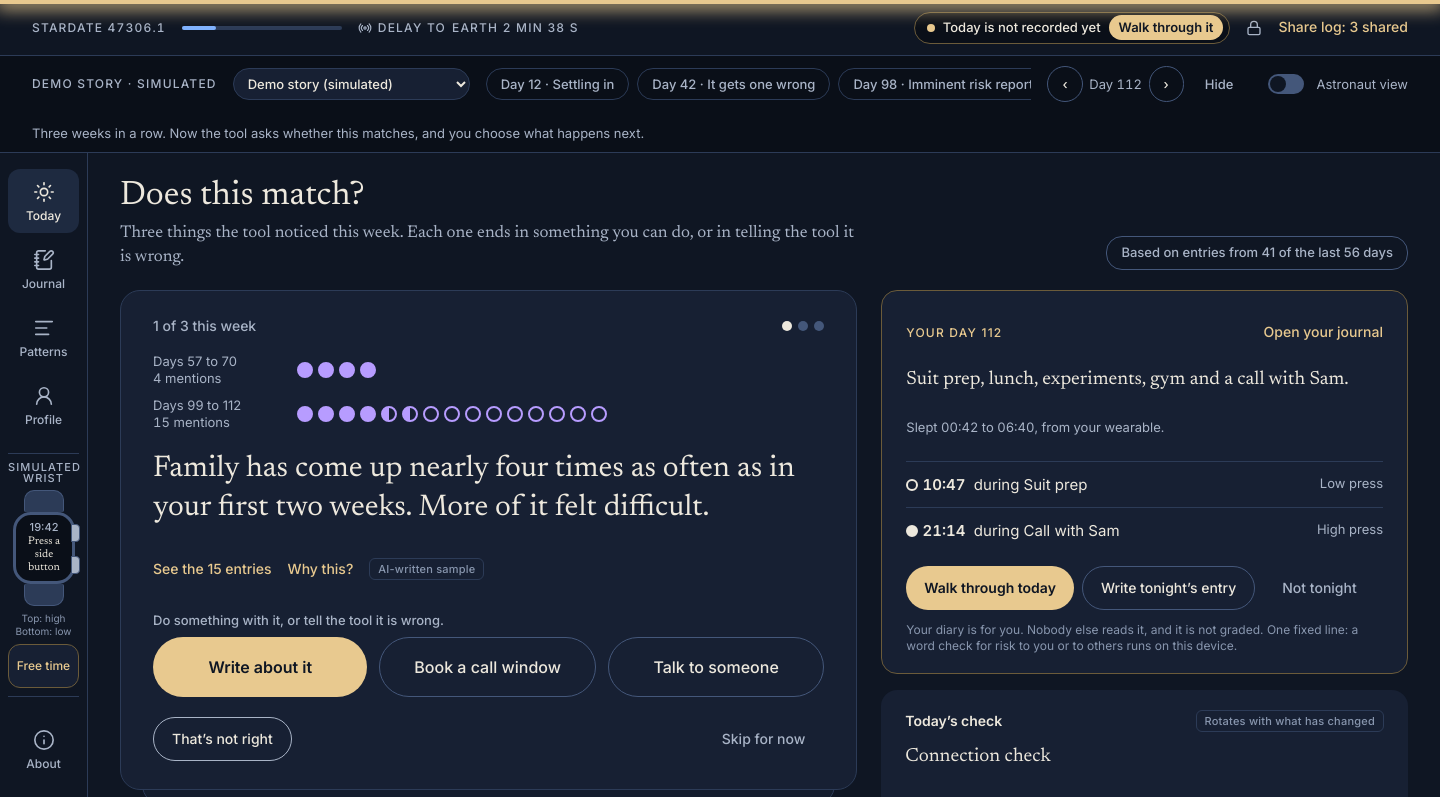
Test case: the story bar switches to a real journal replay and back
Select "Sunita Williams journal (real)" in the dropdown named "Simulation". click: (351, 84)
box: [233,68,470,100]
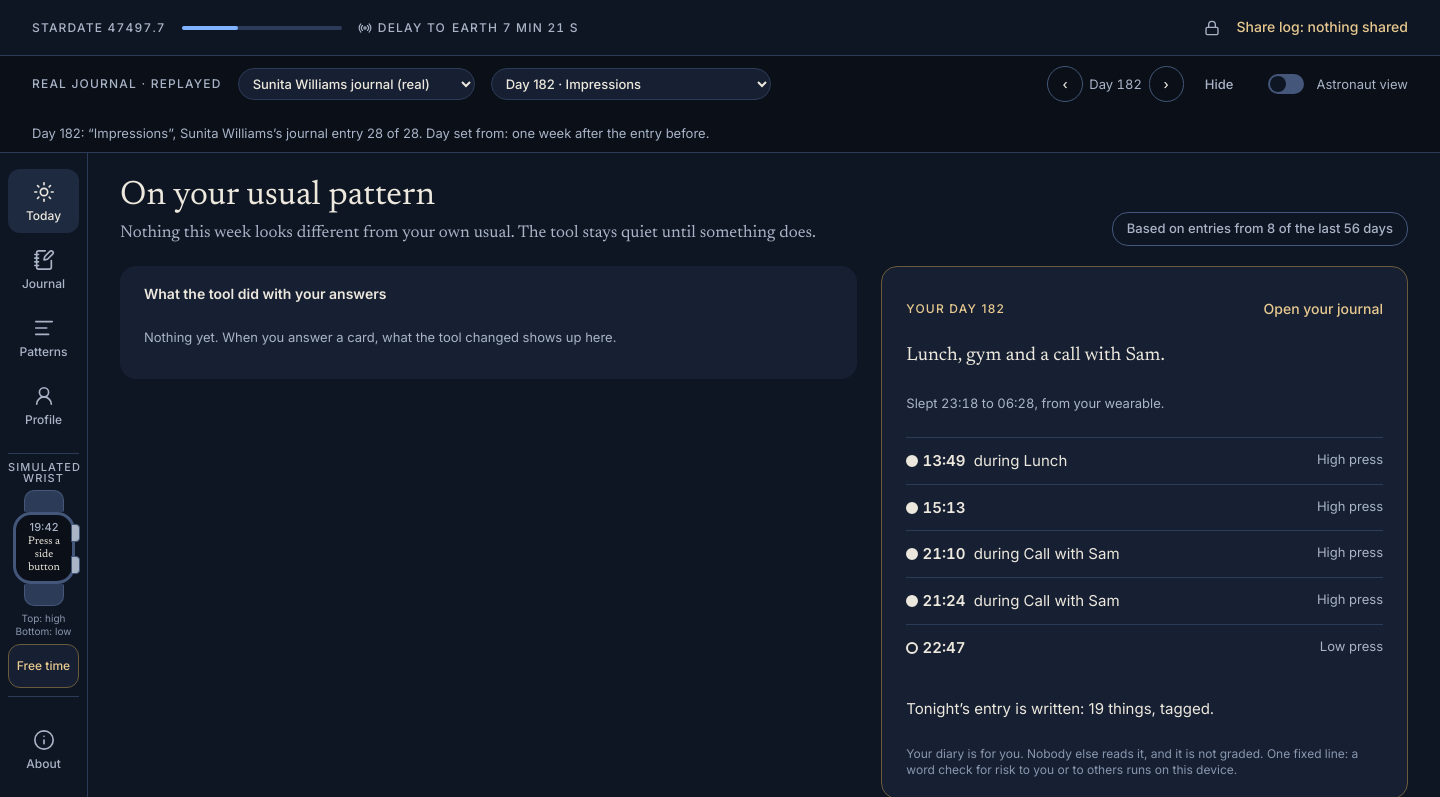
Check: the text "Real journal · replayed" is shown, box [32,78,222,90]
Check: the dropdown named "Jump to a journal entry" is shown, box [491,68,771,100]
Select "Demo story (simulated)" in the dropdown named "Simulation". click: (356, 84)
box: [238,68,475,100]
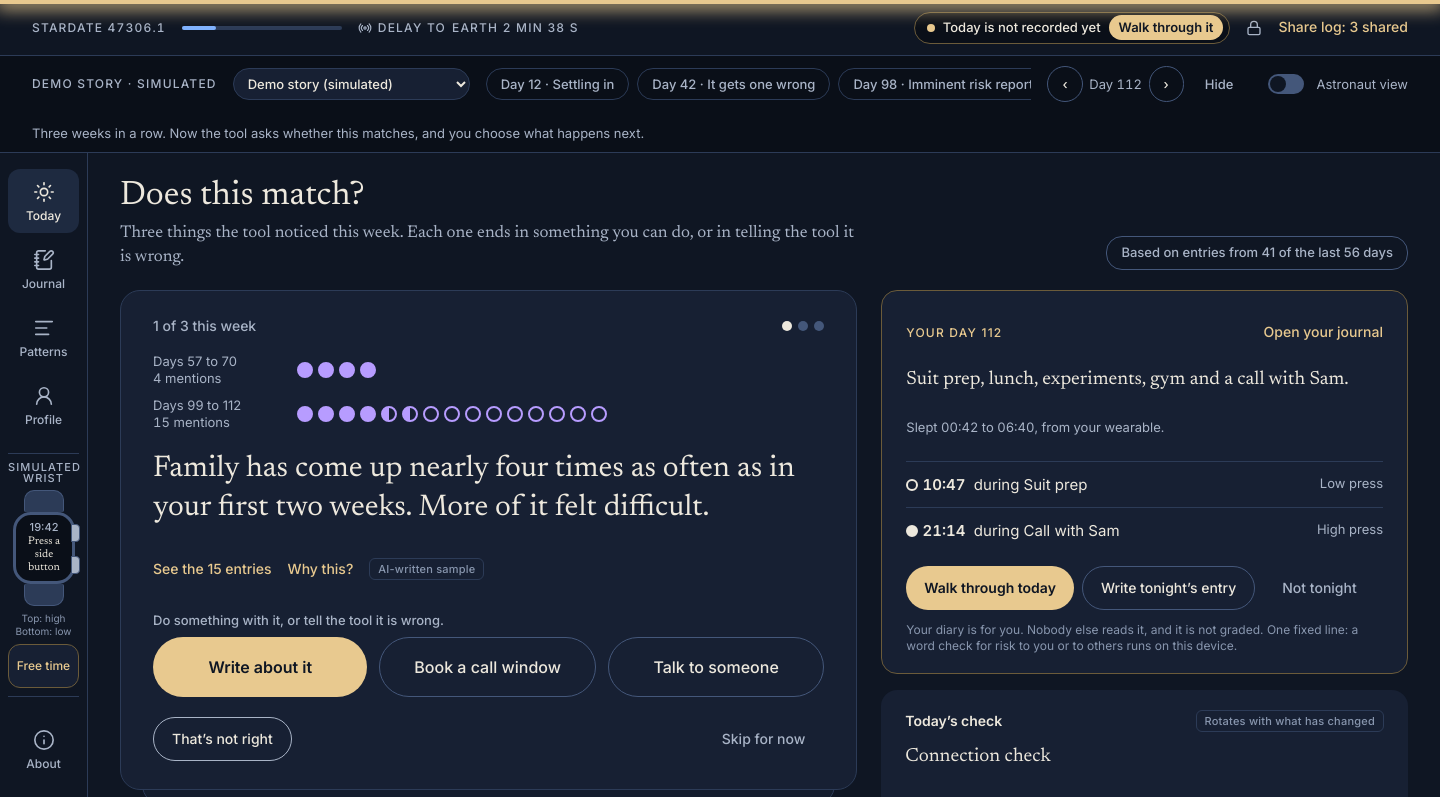
Check: the text "Demo story · simulated" is shown, box [32,78,217,90]
